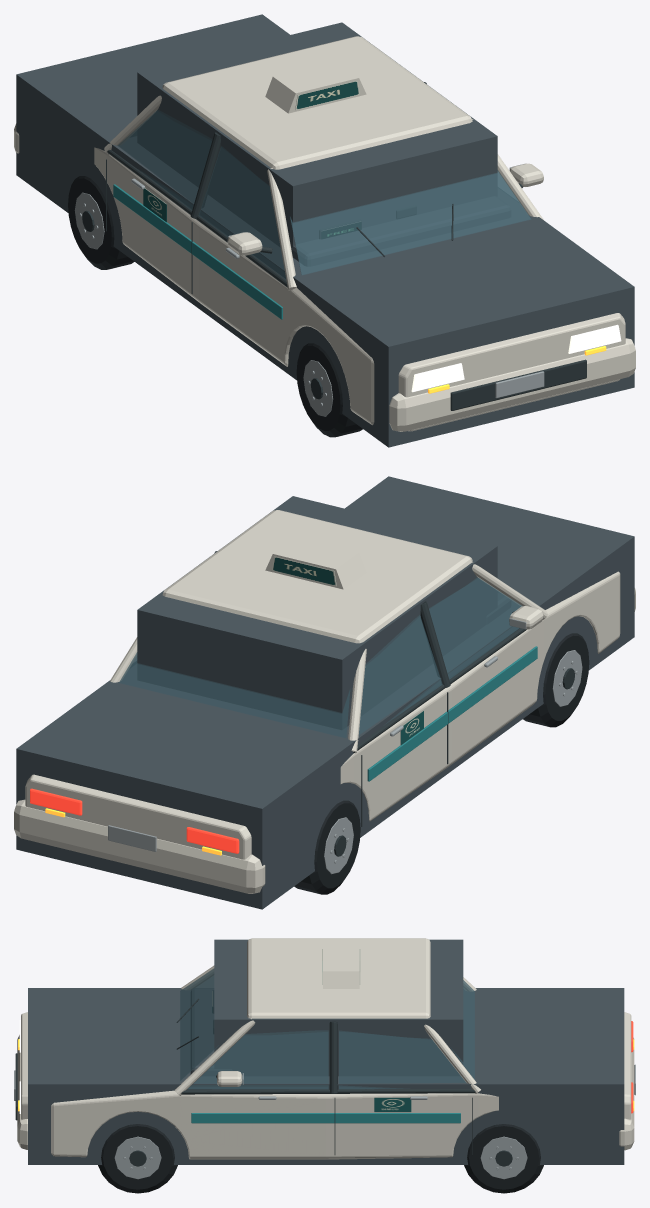
File: SIMUS_Taxi.fbx
3 renders of one model, top to bottom at view 1: azimuth 30°, elevation 25°; view 2: azimuth 150°, elevation 25°; view 3: azimuth 270°, elevation 25°, orthographic. The views are drawn at different scales.
Visible parts, largest first — view 1: TAXI_COL_BODY, TAXI_BODY_Paint_LOD0, TAXI_COL_CABIN, TAXI_WINDOWS_Glass_LOD0, TAXI_INTERIOR_Interior_LOD0, TAXI_BODY_Trim_LOD0, TAXI_Roof_Sign_Housing_LOD0, TAXI_BODY_Accent_LOD0, TAXI_Tire_FR_LOD0, TAXI_Tire_RR_LOD0, TAXI_LIGHTS_FRONT_Headlight_LOD0, TAXI_WINDOWS_Trim_LOD0 (+5 smaller); view 2: TAXI_COL_BODY, TAXI_BODY_Paint_LOD0, TAXI_COL_CABIN, TAXI_WINDOWS_Glass_LOD0, TAXI_Roof_Sign_Housing_LOD0, TAXI_BODY_Accent_LOD0, TAXI_Tire_RR_LOD0, TAXI_Tire_FR_LOD0, TAXI_LIGHTS_REAR_Taillight_LOD0, TAXI_BODY_Trim_LOD0, TAXI_WINDOWS_Trim_LOD0, TAXI_WHEEL_FR_Metal_LOD0 (+3 smaller); view 3: TAXI_COL_BODY, TAXI_BODY_Paint_LOD0, TAXI_COL_CABIN, TAXI_WINDOWS_Glass_LOD0, TAXI_BODY_Accent_LOD0, TAXI_Tire_RL_LOD0, TAXI_Tire_FL_LOD0, TAXI_INTERIOR_Interior_LOD0, TAXI_WINDOWS_Trim_LOD0, TAXI_Roof_Sign_Housing_LOD0, TAXI_WHEEL_FL_Metal_LOD0, TAXI_WHEEL_RL_Metal_LOD0 (+3 smaller).
Boxes of the visible parts, x1=… form: TAXI_COL_BODY: x1=16, y1=14, x2=634, y2=447; TAXI_BODY_Paint_LOD0: x1=14, y1=36, x2=635, y2=431; TAXI_COL_CABIN: x1=137, y1=22, x2=497, y2=247; TAXI_WINDOWS_Glass_LOD0: x1=117, y1=110, x2=531, y2=279; TAXI_INTERIOR_Interior_LOD0: x1=291, y1=196, x2=510, y2=266; TAXI_BODY_Trim_LOD0: x1=106, y1=82, x2=586, y2=410; TAXI_Roof_Sign_Housing_LOD0: x1=265, y1=61, x2=366, y2=113; TAXI_BODY_Accent_LOD0: x1=113, y1=184, x2=282, y2=319; TAXI_Tire_FR_LOD0: x1=296, y1=343, x2=362, y2=437; TAXI_Tire_RR_LOD0: x1=68, y1=176, x2=134, y2=269; TAXI_LIGHTS_FRONT_Headlight_LOD0: x1=411, y1=324, x2=621, y2=392; TAXI_WINDOWS_Trim_LOD0: x1=107, y1=150, x2=453, y2=287; TAXI_COL_BODY: x1=16, y1=476, x2=634, y2=909; TAXI_BODY_Paint_LOD0: x1=14, y1=510, x2=635, y2=893; TAXI_COL_CABIN: x1=137, y1=496, x2=497, y2=729; TAXI_WINDOWS_Glass_LOD0: x1=119, y1=577, x2=522, y2=737; TAXI_Roof_Sign_Housing_LOD0: x1=265, y1=537, x2=366, y2=589; TAXI_BODY_Accent_LOD0: x1=367, y1=646, x2=537, y2=781; TAXI_Tire_RR_LOD0: x1=294, y1=800, x2=360, y2=894; TAXI_Tire_FR_LOD0: x1=523, y1=633, x2=589, y2=727; TAXI_LIGHTS_REAR_Taillight_LOD0: x1=30, y1=788, x2=239, y2=853; TAXI_BODY_Trim_LOD0: x1=214, y1=551, x2=450, y2=826; TAXI_WINDOWS_Trim_LOD0: x1=353, y1=617, x2=543, y2=753; TAXI_WHEEL_FR_Metal_LOD0: x1=552, y1=650, x2=582, y2=706; TAXI_COL_BODY: x1=28, y1=988, x2=624, y2=1164; TAXI_BODY_Paint_LOD0: x1=17, y1=938, x2=634, y2=1159; TAXI_COL_CABIN: x1=214, y1=939, x2=463, y2=1076; TAXI_WINDOWS_Glass_LOD0: x1=180, y1=968, x2=474, y2=1089; TAXI_BODY_Accent_LOD0: x1=191, y1=1113, x2=460, y2=1123; TAXI_Tire_RL_LOD0: x1=464, y1=1124, x2=543, y2=1193; TAXI_Tire_FL_LOD0: x1=98, y1=1124, x2=177, y2=1193; TAXI_INTERIOR_Interior_LOD0: x1=190, y1=988, x2=232, y2=1075; TAXI_WINDOWS_Trim_LOD0: x1=176, y1=998, x2=478, y2=1094; TAXI_Roof_Sign_Housing_LOD0: x1=323, y1=946, x2=359, y2=988; TAXI_WHEEL_FL_Metal_LOD0: x1=114, y1=1136, x2=161, y2=1179; TAXI_WHEEL_RL_Metal_LOD0: x1=480, y1=1136, x2=527, y2=1179.
Size of what is drawn, in the model's own units: 222 by 163 by 489.
